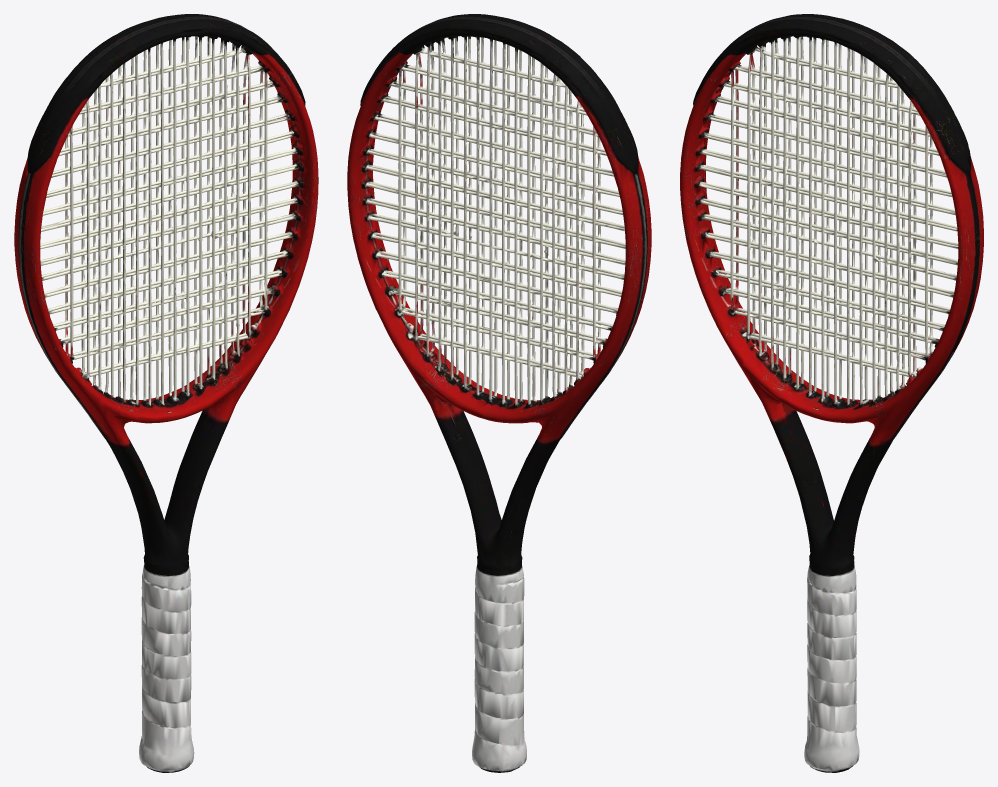
File: racket-red.glb
The picture shows the model from 3 angles, left to right: view 1: azimuth 30°, elevation 25°; view 2: azimuth 150°, elevation 25°; view 3: azimuth 330°, elevation 25°; orthographic projection.
Size of the model in its own units: 0.7852 by 1.9 by 0.1303.
1 material, 1 textured.
